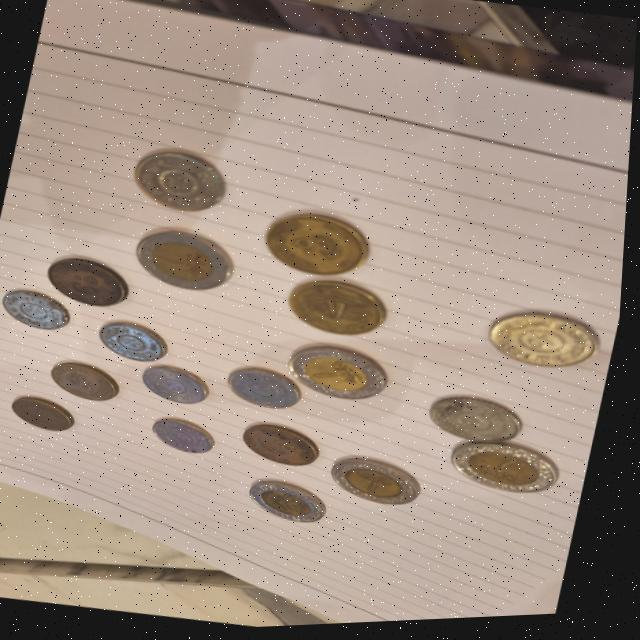Half Pound: (260, 204, 386, 287), (284, 272, 397, 350), (38, 249, 142, 315), (243, 420, 334, 476), (47, 354, 133, 408), (7, 389, 88, 440)
One Pound: (127, 217, 250, 302), (443, 434, 573, 509), (281, 339, 404, 413), (327, 450, 438, 517), (245, 474, 340, 533)
quarter pound: (483, 302, 616, 384), (128, 141, 240, 222), (424, 390, 539, 456), (87, 314, 191, 370), (221, 361, 318, 420), (135, 361, 221, 413), (149, 410, 228, 464), (0, 284, 82, 336)
